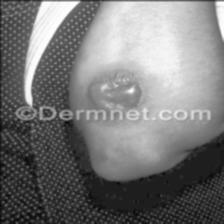Toxin: (80, 68, 154, 110)
